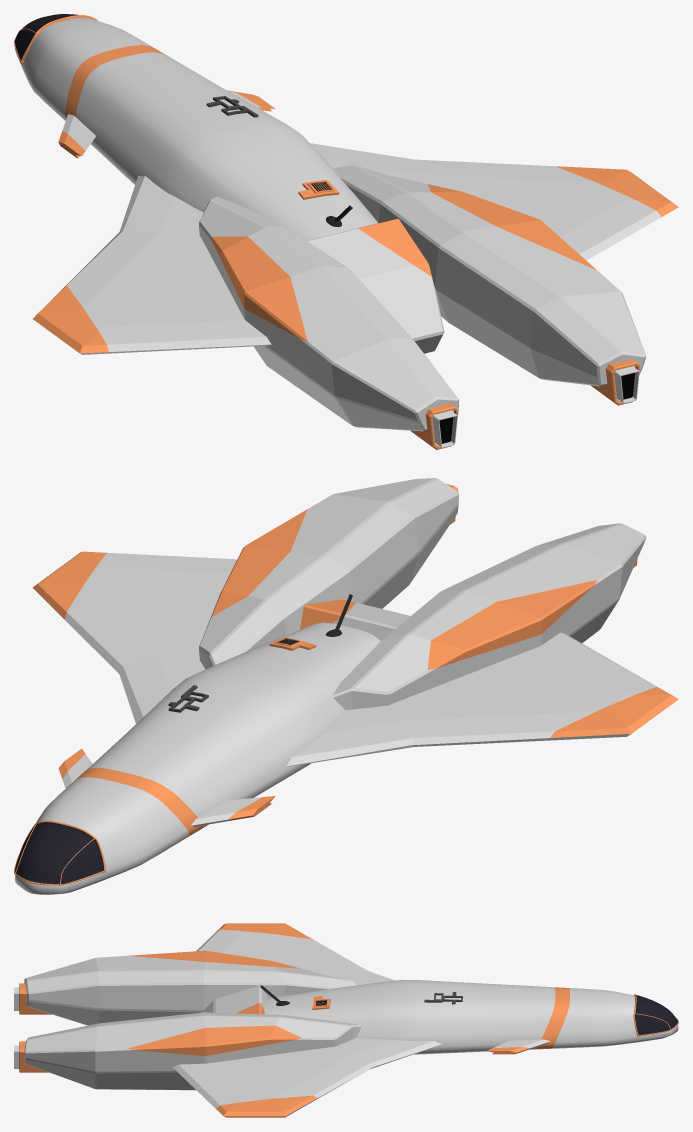
The model's file is OrangeDogfighter.fbx.
3 renders of one model, top to bottom at view 1: azimuth 30°, elevation 25°; view 2: azimuth 150°, elevation 25°; view 3: azimuth 270°, elevation 25°, orthographic. The views are drawn at different scales.
Parts seen in each view (by area): view 1: Body.001, RightEnginePanel, RightEnginePanel.001, Wings.003, Wings, RearPart, RightEngine, RightEngine.002, Cockpit.001, FrontWings.001; view 2: Body.001, RightEnginePanel.001, RightEnginePanel, Wings.003, Wings, Cockpit.001, RearPart, FrontWings.001, FrontWings; view 3: Body.001, RightEnginePanel, RightEnginePanel.001, Wings, Wings.003, Cockpit.001, RearPart, FrontWings, RightEngine.002, RightEngine.
Boxes of the visible parts, box(x1,y1,x2,y2) form: Body.001: box(15, 17, 378, 240); RightEnginePanel: box(333, 165, 646, 386); RightEnginePanel.001: box(199, 196, 459, 431); Wings.003: box(33, 176, 271, 354); Wings: box(310, 143, 678, 260); RearPart: box(307, 218, 444, 353); RightEngine: box(591, 359, 639, 405); RightEngine.002: box(410, 403, 458, 449); Cockpit.001: box(14, 14, 97, 63); FrontWings.001: box(58, 114, 95, 158); Body.001: box(14, 622, 380, 894); RightEnginePanel.001: box(332, 523, 646, 710); RightEnginePanel: box(199, 478, 459, 669); Wings.003: box(286, 632, 678, 766); Wings: box(32, 551, 237, 723); Cockpit.001: box(14, 820, 105, 885); RearPart: box(300, 599, 410, 640); FrontWings.001: box(190, 795, 275, 826); FrontWings: box(58, 748, 92, 788); Body.001: box(264, 979, 678, 1054); RightEnginePanel: box(24, 1012, 361, 1090); RightEnginePanel.001: box(24, 950, 356, 1025); Wings: box(173, 1038, 442, 1117); Wings.003: box(196, 923, 395, 985); Cockpit.001: box(633, 994, 678, 1036); RearPart: box(201, 986, 267, 1014); FrontWings: box(487, 1039, 550, 1054); RightEngine.002: box(14, 983, 51, 1014); RightEngine: box(14, 1041, 48, 1072).
Bounding box in the file's own units: 759 × 139 × 1112.
